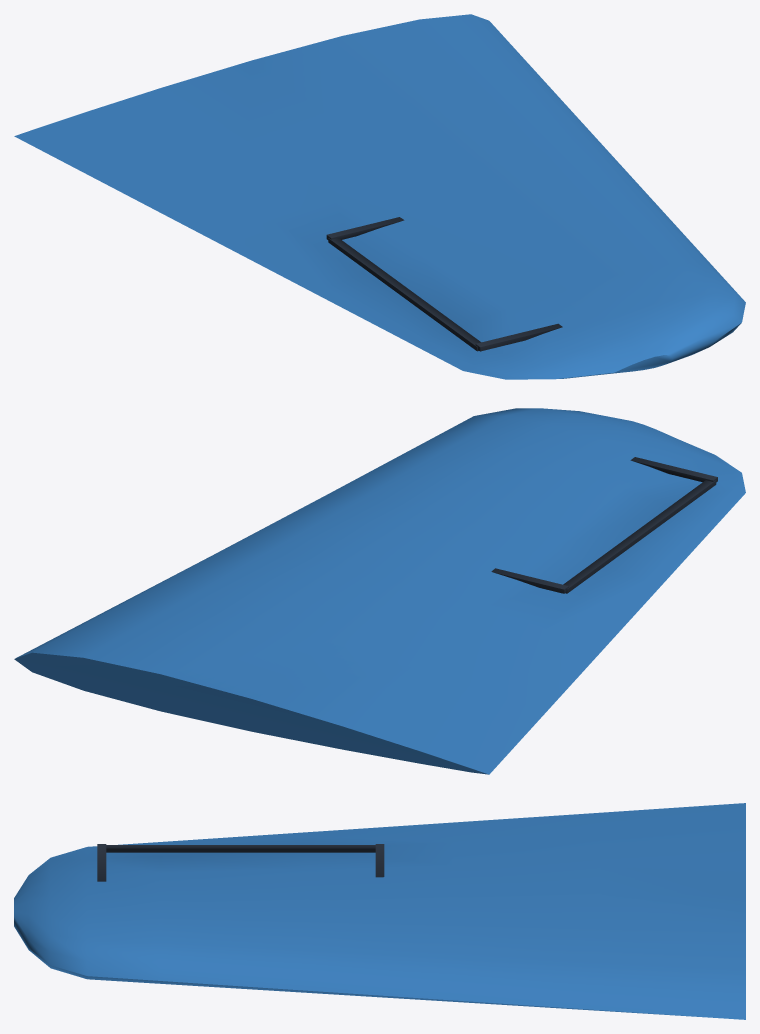
The model's file is wing-glider.glb.
3 views of the same model, one above another, from view 1: azimuth 30°, elevation 25°; view 2: azimuth 150°, elevation 25°; view 3: azimuth 270°, elevation 25° (orthographic). The views are drawn at different scales.
Visible parts, largest first — view 1: body, dark; view 2: body, dark; view 3: body, dark.
Boxes of the visible parts, <box> form: body: <box>14,14,745,379</box>; dark: <box>326,217,562,351</box>; body: <box>14,408,745,774</box>; dark: <box>491,457,717,593</box>; body: <box>14,803,745,1019</box>; dark: <box>97,844,384,881</box>.
Size of the model in its own units: 0.7 by 0.0523 by 1.
